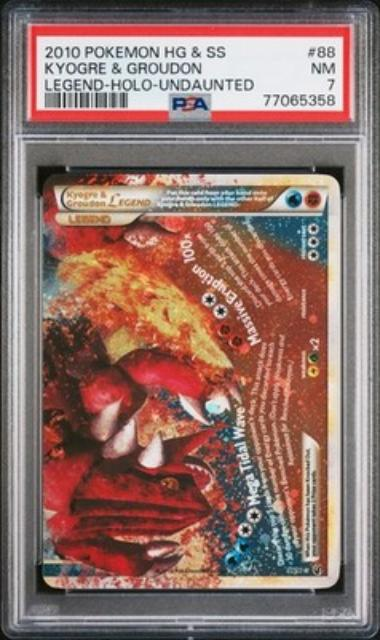Card: (37, 165, 348, 594)
Name: (61, 186, 152, 212)
